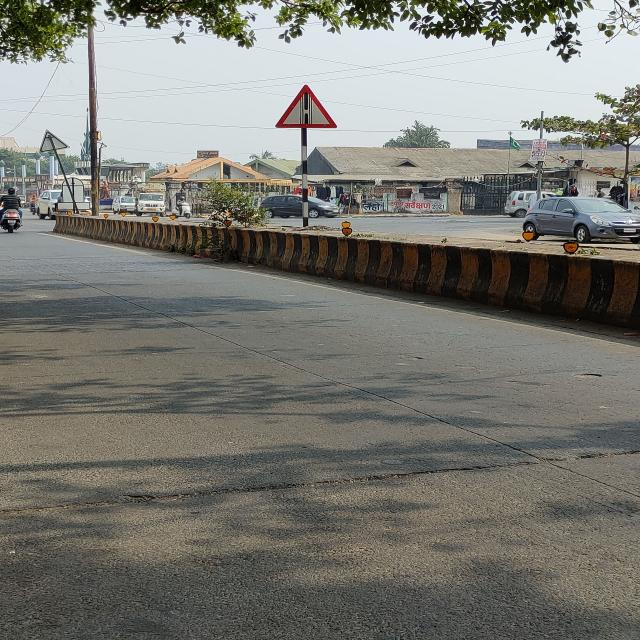GAP_IN_MEDIAN: (275, 85, 338, 128)
